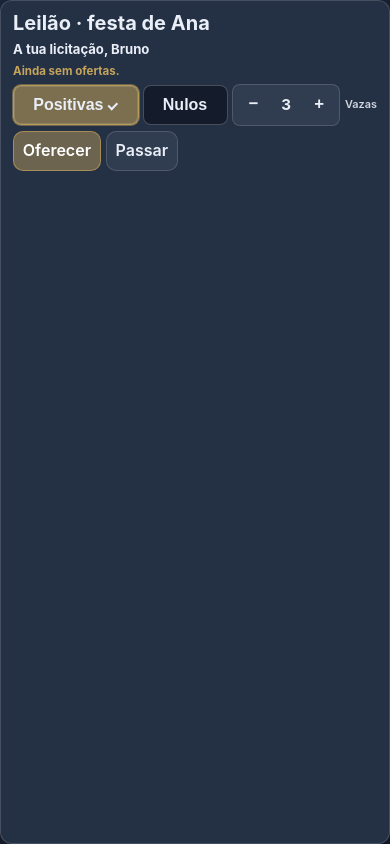
Test: King festa decision surfaces › shows Passo on the Portuguese voice echo and still submits pass
Click the button "Passar". click: click(142, 151)
box: [106, 131, 178, 171]
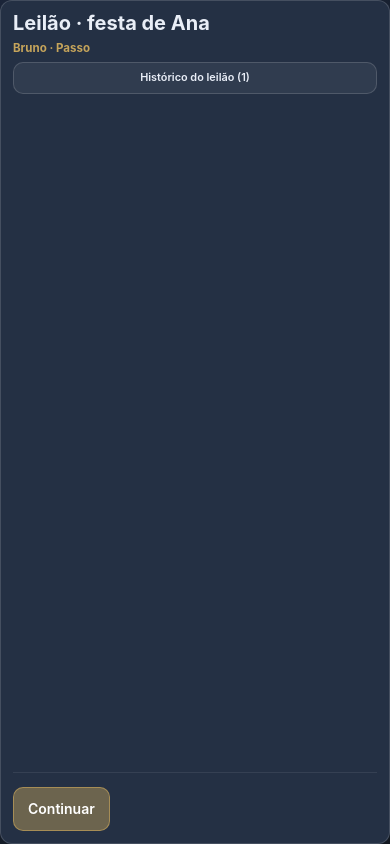
Expected: the element with class "king-auction-current-bid" does not show "PASS"
Result: the text with class "king-auction-current-bid" shows "Passo" at [13, 41, 90, 55]
